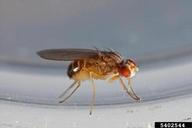Fruit fly: (35, 35, 144, 114)
